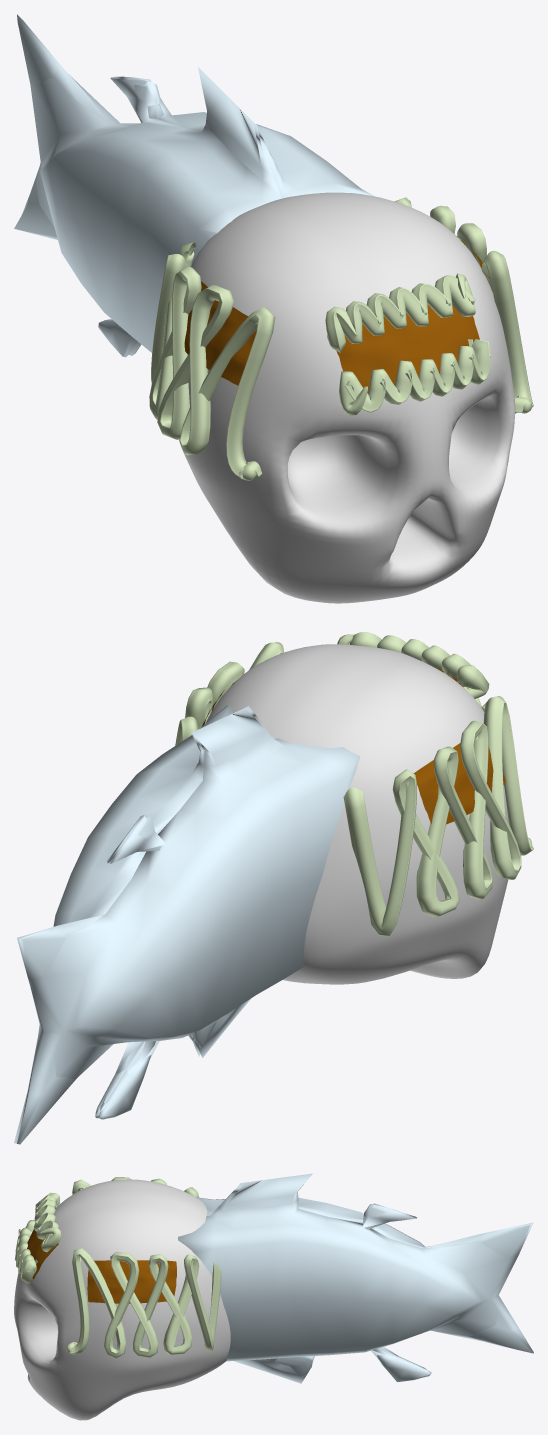
File: Pez1.fbx
3 renders of one model, top to bottom at view 1: azimuth 30°, elevation 25°; view 2: azimuth 150°, elevation 25°; view 3: azimuth 270°, elevation 25°, orthographic. The views are drawn at different scales.
Parts seen in each view (by area): view 1: Cube.001, Cube, BezierCurve.002, Plane, BezierCurve, BezierCurve.001; view 2: Cube, Cube.001, BezierCurve.002, BezierCurve.001, Plane; view 3: Cube, Cube.001, BezierCurve.002, Plane, BezierCurve.001, BezierCurve.
Part boxes in pixels (x1,y1,x2,y2): Cube.001: (179,192,515,603); Cube: (14,14,374,357); BezierCurve.002: (149,197,533,480); Plane: (184,236,490,393); BezierCurve: (338,339,491,415); BezierCurve.001: (325,273,475,352); Cube: (14,705,360,1144); Cube.001: (206,644,508,984); BezierCurve.002: (175,642,533,935); BezierCurve.001: (337,632,489,698); Plane: (201,669,505,824); Cube: (178,1173,533,1383); Cube.001: (14,1179,230,1420); BezierCurve.002: (66,1177,221,1358); Plane: (27,1229,176,1303); BezierCurve.001: (34,1192,61,1252); BezierCurve: (14,1220,38,1283).
Bounding box in the file's own units: 655 × 706 × 1439.
